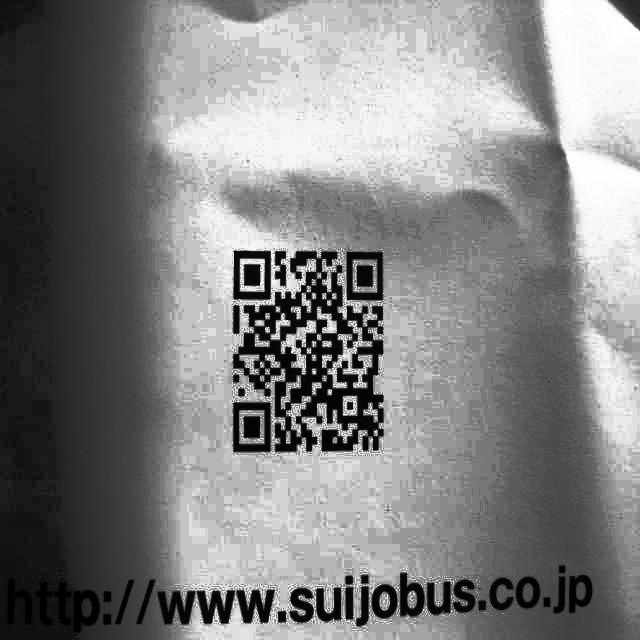qr_code: (234, 252, 384, 452)
